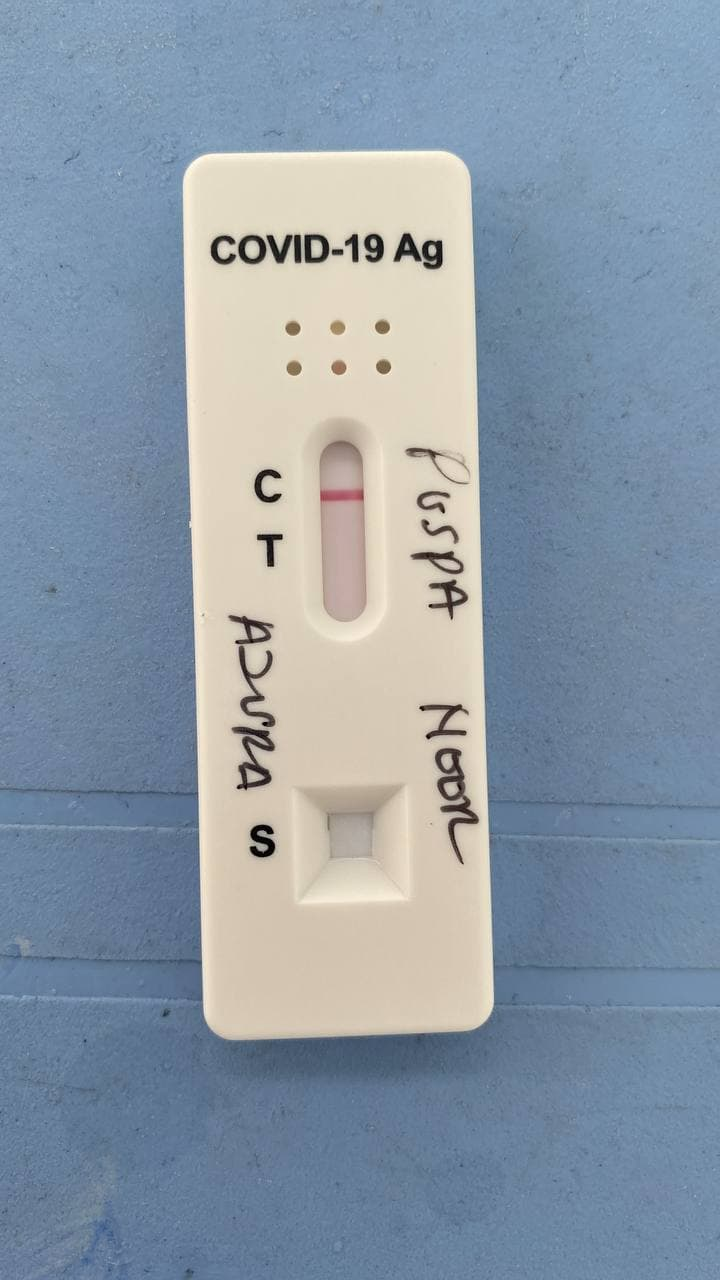rapid_test: (180, 149, 504, 1045)
